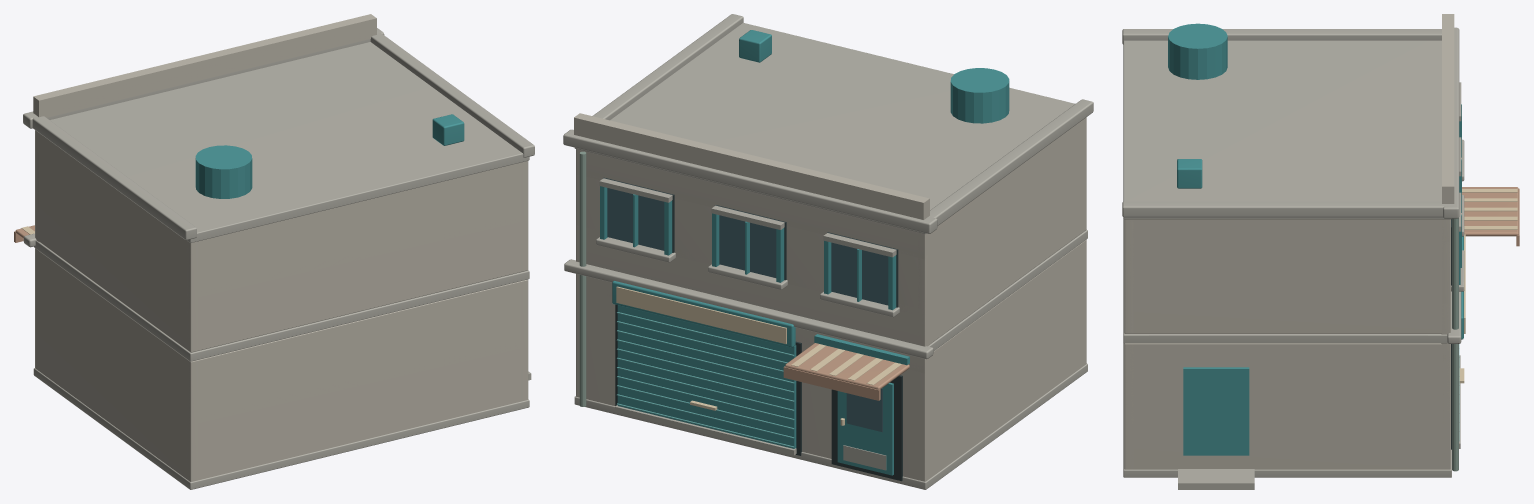
File: A006_corner_repair_shop.glb
3 views of the same model, side by side, from view 1: azimuth 30°, elevation 25°; view 2: azimuth 150°, elevation 25°; view 3: azimuth 270°, elevation 25° (orthographic). The views are drawn at different scales.
Visible parts, largest first — view 1: Roof structural slab, Rear ground wall, Upper rear wall, Left ground wall, Upper left wall, Upper parapet, Upper floor slab, Ground floor slab, Roof coping left, Roof water tank, Roof coping right, Roof coping front (+2 smaller); view 2: Roof structural slab, Left ground wall, Upper left wall, Independent segmented garage shutter, Upper front sill, Upper parapet, Upper front head, Roof coping front, Front cornice, Front right pier, Roof coping left, Ground floor slab (+32 smaller); view 3: Roof structural slab, Upper right wall, Right ground wall, Side service door, Roof coping right, Upper floor slab, Roof coping left, Roof water tank, Ground floor slab, Upper parapet, Awning cloth canopy, Rainwater downpipe (+7 smaller).
Part boxes in pixels (x1=…): Roof structural slab: x1=50, y1=42, x2=529, y2=242; Rear ground wall: x1=187, y1=279, x2=528, y2=481; Upper rear wall: x1=186, y1=161, x2=528, y2=352; Left ground wall: x1=35, y1=249, x2=197, y2=481; Upper left wall: x1=35, y1=130, x2=197, y2=352; Upper parapet: x1=33, y1=14, x2=376, y2=117; Upper floor slab: x1=34, y1=240, x2=529, y2=361; Ground floor slab: x1=33, y1=368, x2=529, y2=489; Roof coping left: x1=30, y1=114, x2=196, y2=240; Roof water tank: x1=195, y1=145, x2=252, y2=198; Roof coping right: x1=370, y1=31, x2=534, y2=157; Roof coping front: x1=23, y1=28, x2=384, y2=128; Roof structural slab: x1=574, y1=23, x2=1075, y2=234; Left ground wall: x1=918, y1=239, x2=1086, y2=481; Upper left wall: x1=918, y1=117, x2=1086, y2=345; Independent segmented garage shutter: x1=617, y1=305, x2=796, y2=448; Upper front sill: x1=576, y1=225, x2=929, y2=346; Upper parapet: x1=574, y1=113, x2=929, y2=219; Upper front head: x1=576, y1=149, x2=929, y2=259; Roof coping front: x1=563, y1=129, x2=937, y2=233; Front cornice: x1=564, y1=259, x2=933, y2=359; Front right pier: x1=576, y1=274, x2=615, y2=405; Roof coping left: x1=927, y1=99, x2=1093, y2=225; Ground floor slab: x1=574, y1=363, x2=1087, y2=489; Roof structural slab: x1=1123, y1=40, x2=1451, y2=219; Upper right wall: x1=1124, y1=219, x2=1450, y2=333; Right ground wall: x1=1124, y1=343, x2=1450, y2=469; Side service door: x1=1183, y1=367, x2=1249, y2=455; Roof coping right: x1=1122, y1=201, x2=1451, y2=217; Upper floor slab: x1=1123, y1=219, x2=1447, y2=343; Roof coping left: x1=1122, y1=29, x2=1441, y2=44; Roof water tank: x1=1168, y1=23, x2=1227, y2=79; Ground floor slab: x1=1123, y1=343, x2=1451, y2=477; Upper parapet: x1=1442, y1=14, x2=1454, y2=203; Awning cloth canopy: x1=1462, y1=187, x2=1518, y2=236; Rainwater downpipe: x1=1452, y1=218, x2=1458, y2=471.
Bounding box in the file's own units: 11.09 × 8.21 × 9.73.
